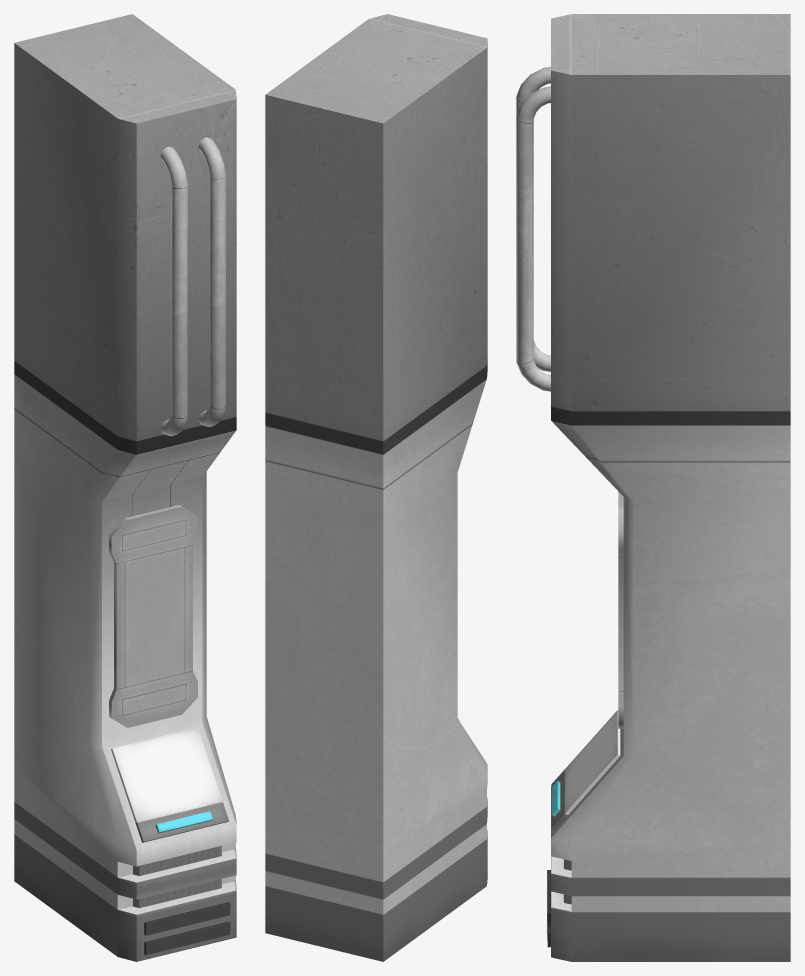
File: pillar.FBX
3 views of the same model, side by side, from view 1: azimuth 30°, elevation 25°; view 2: azimuth 150°, elevation 25°; view 3: azimuth 270°, elevation 25° (orthographic). The views are drawn at different scales.
Parts seen in each view (by area): view 1: pillar; view 2: pillar; view 3: pillar.
Boxes of the visible parts, x1,y1,x2,y2 form: pillar: (14,14,236,961); pillar: (265,14,487,961); pillar: (516,14,790,961).
Bounding box in the file's own units: 35.72 × 242 × 67.83.
